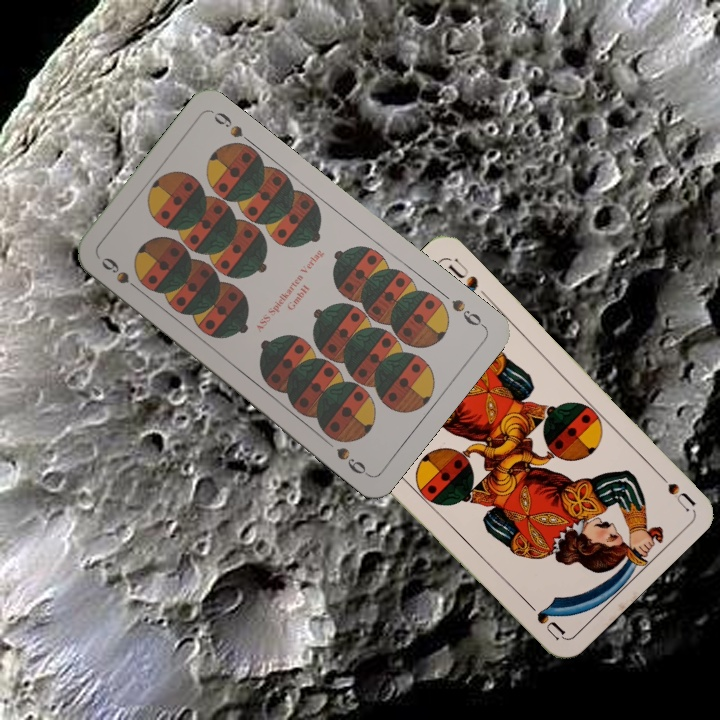S9: (96, 253, 146, 296), (447, 295, 488, 330)
SU: (648, 463, 697, 513)
